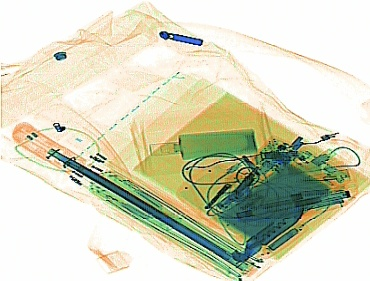glassbottle: (172, 128, 257, 159)
smallelectronicequipment: (206, 142, 345, 249)
tszhediedao: (228, 204, 304, 262)
umbrella: (10, 120, 264, 279)
